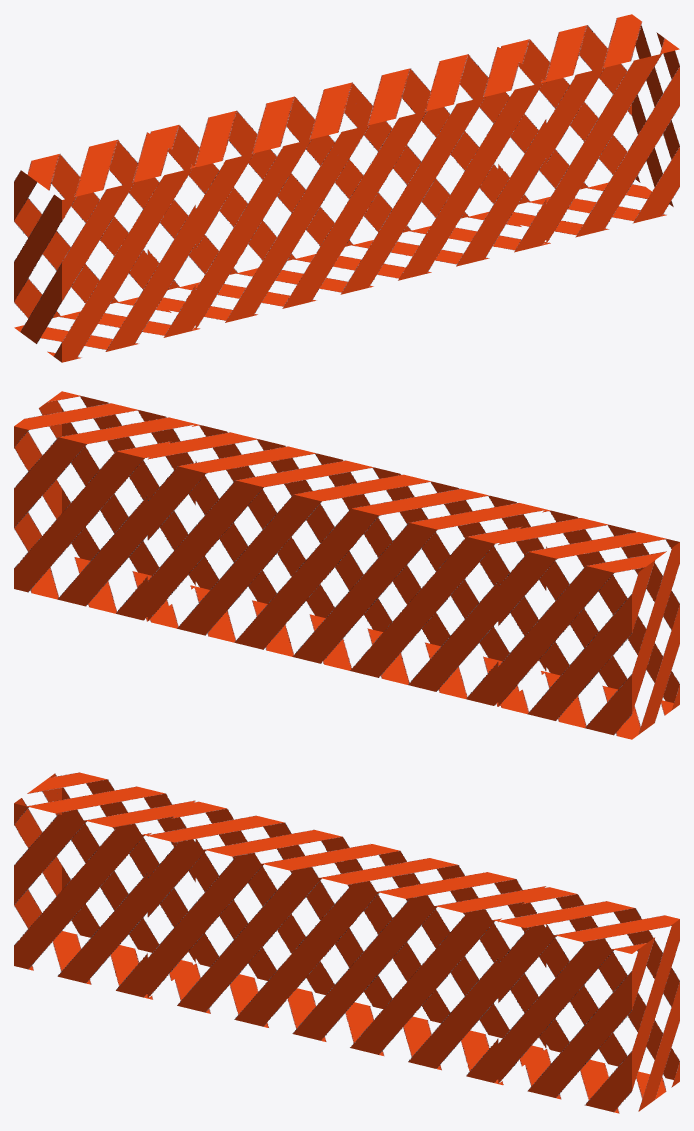
Rendered from Helper_01.DAE.
The picture shows the model from 3 angles, top to bottom: view 1: azimuth 30°, elevation 25°; view 2: azimuth 150°, elevation 25°; view 3: azimuth 330°, elevation 25°; orthographic projection.
Parts seen in each view (by area): view 1: torqueBarrier200; view 2: torqueBarrier200; view 3: torqueBarrier200.
Part boxes in pixels (x1,y1,x2,y2): torqueBarrier200: [14, 14, 679, 362]; torqueBarrier200: [14, 391, 679, 739]; torqueBarrier200: [14, 772, 679, 1113].
Size of what is drawn, in the model's own units: 79.35 by 10.67 by 19.95.
